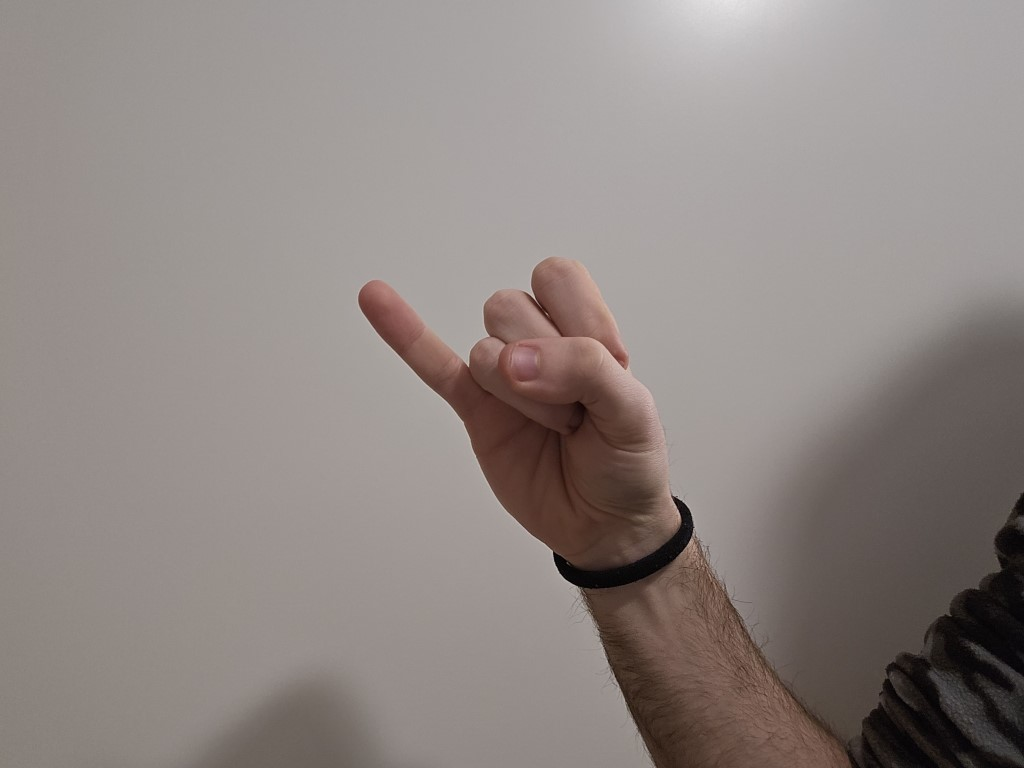j: (346, 236, 669, 546)
